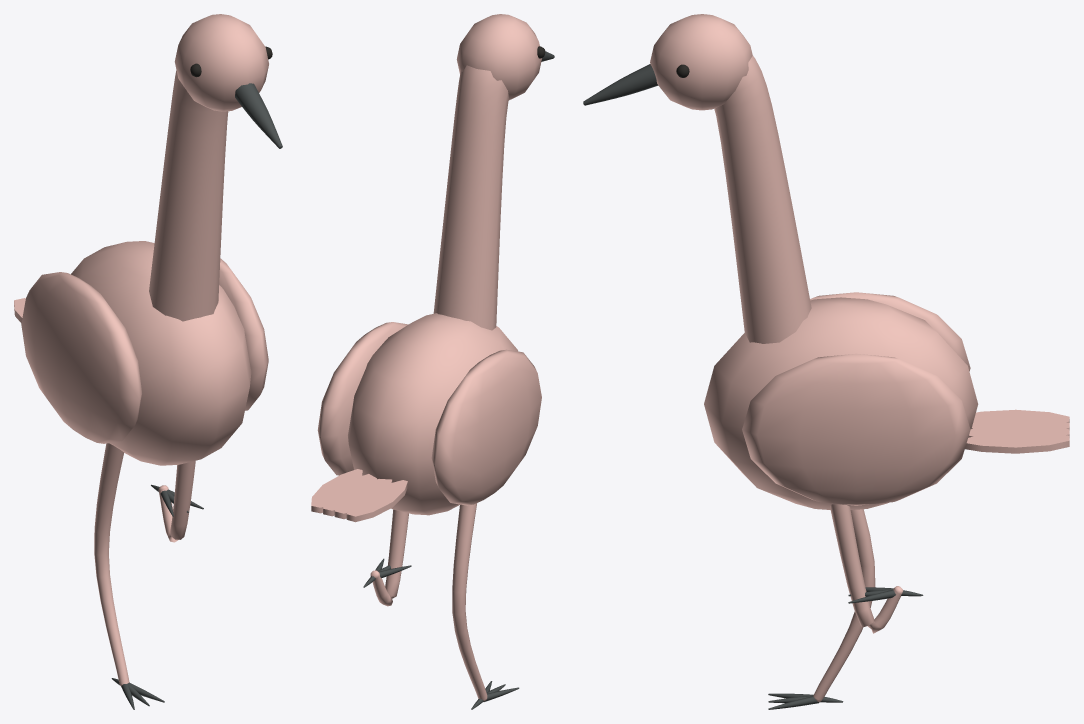
File: birds-and-flying-creatures-greater-flamingo-one-leg-6e11b045__20647.glb
The picture shows the model from 3 angles, left to right: view 1: azimuth 30°, elevation 25°; view 2: azimuth 150°, elevation 25°; view 3: azimuth 270°, elevation 25°; orthographic projection. The views are drawn at different scales.
Parts seen in each view (by area): view 1: greater-flamingo-one-leg; view 2: greater-flamingo-one-leg; view 3: greater-flamingo-one-leg.
Part boxes in pixels (box(x1,y1,x2,y2)): greater-flamingo-one-leg: box(14, 14, 282, 709); greater-flamingo-one-leg: box(311, 14, 554, 709); greater-flamingo-one-leg: box(583, 14, 1069, 709).
Bounding box in the file's own units: 0.4174 × 1.63 × 1.02.
